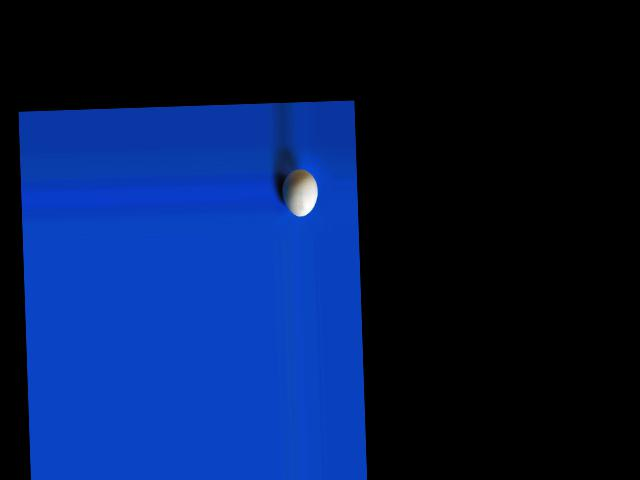egg: (281, 168, 318, 217)
